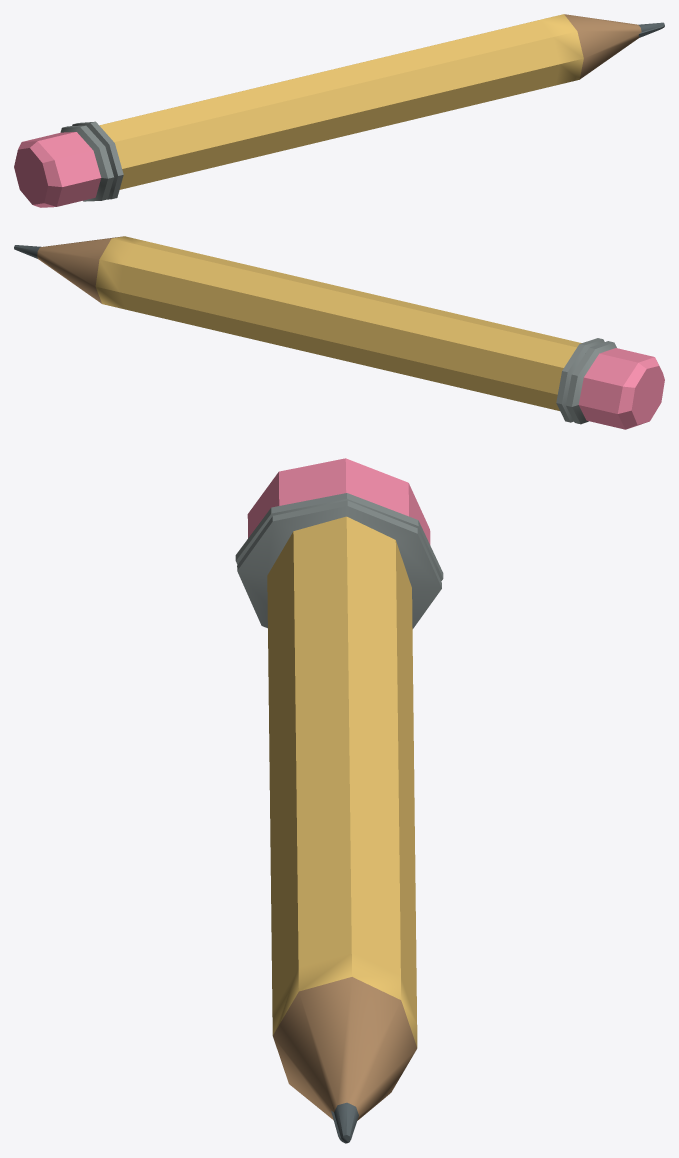
The model's file is Pencil.fbx.
The picture shows the model from 3 angles, top to bottom: view 1: azimuth 30°, elevation 25°; view 2: azimuth 150°, elevation 25°; view 3: azimuth 270°, elevation 25°; orthographic projection. The views are drawn at different scales.
Visible parts, largest first — view 1: spectrum:pCylinder1; view 2: spectrum:pCylinder1; view 3: spectrum:pCylinder1.
Boxes of the visible parts, x1,y1,x2,y2 form: spectrum:pCylinder1: (14, 14, 664, 207); spectrum:pCylinder1: (14, 236, 664, 429); spectrum:pCylinder1: (235, 458, 443, 1143).
Size of the model in its own units: 0.0569 by 0.00638 by 0.0081.
